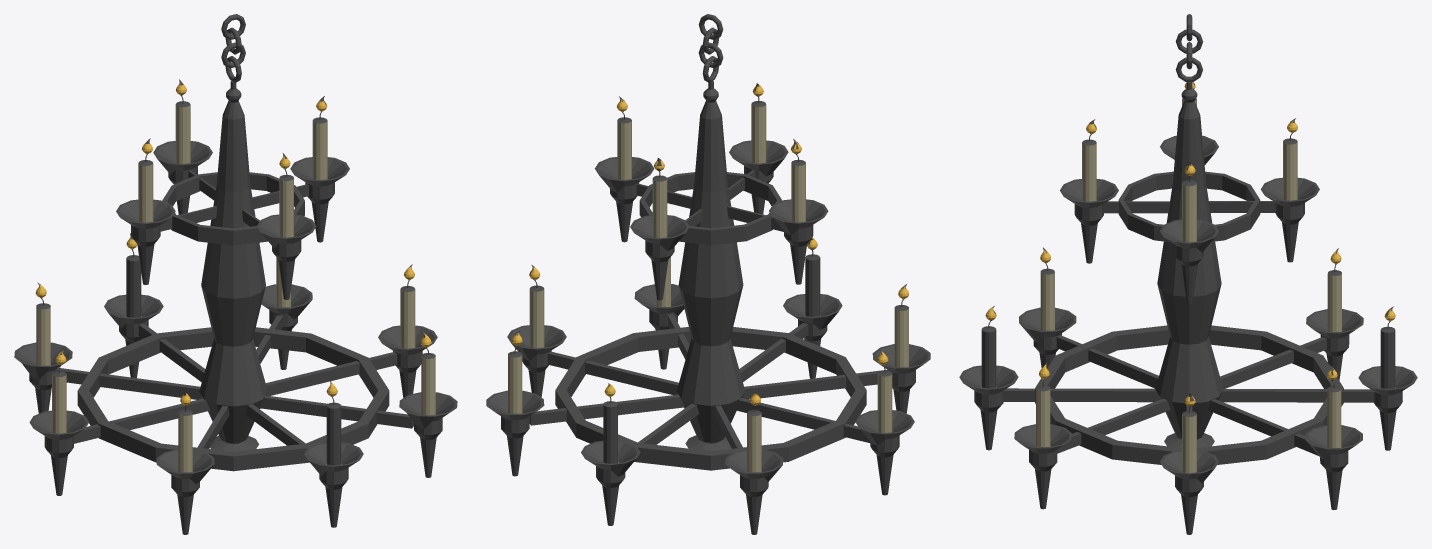
Rendered from Chandelier.glb.
3 renders of one model, left to right at view 1: azimuth 30°, elevation 25°; view 2: azimuth 150°, elevation 25°; view 3: azimuth 270°, elevation 25°, orthographic.
Visible parts, largest first — view 1: Cylinder; view 2: Cylinder; view 3: Cylinder.
Part boxes in pixels (x1,y1,x2,y2): Cylinder: (14,14,457,534); Cylinder: (486,14,930,534); Cylinder: (959,14,1417,534).
Bounding box in the file's own units: 9.18 × 9.75 × 9.18.
